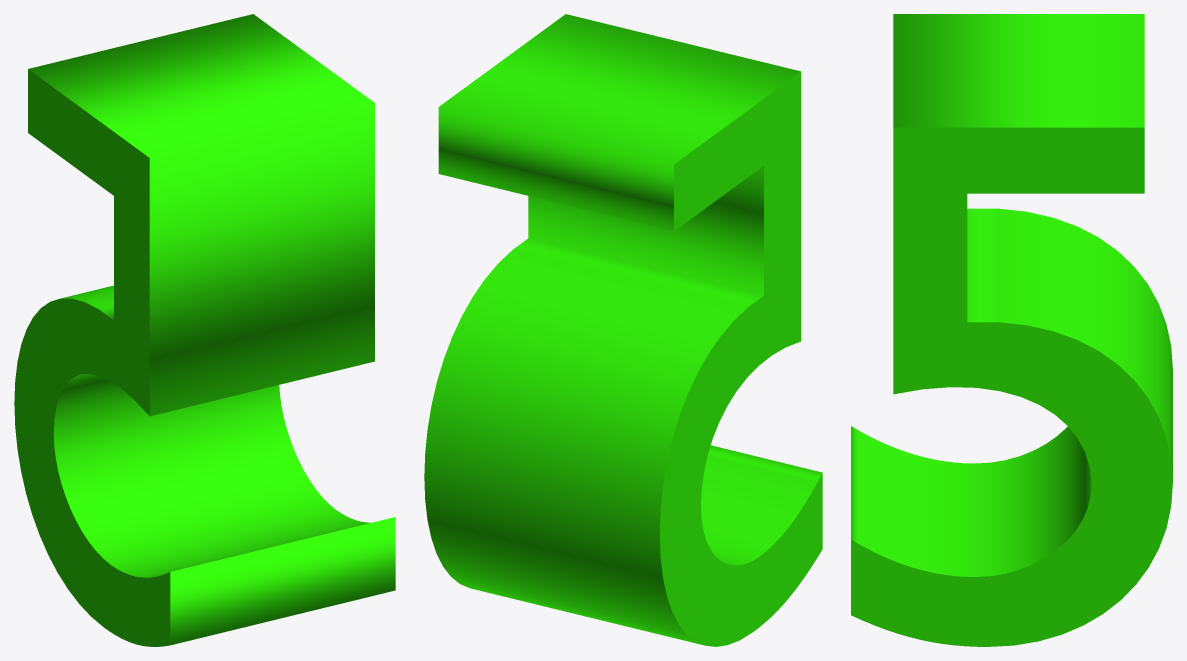
Rendered from number5.obj.
The picture shows the model from 3 angles, left to right: view 1: azimuth 30°, elevation 25°; view 2: azimuth 150°, elevation 25°; view 3: azimuth 270°, elevation 25°; orthographic projection. The views are drawn at different scales.
Visible parts, largest first — view 1: Text.009_Text.010; view 2: Text.009_Text.010; view 3: Text.009_Text.010.
Boxes of the visible parts, x1,y1,x2,y2 form: Text.009_Text.010: [14, 14, 395, 646]; Text.009_Text.010: [424, 14, 822, 646]; Text.009_Text.010: [851, 14, 1172, 646].
Size of the model in its own units: 2.23 by 4.76 by 2.68.
